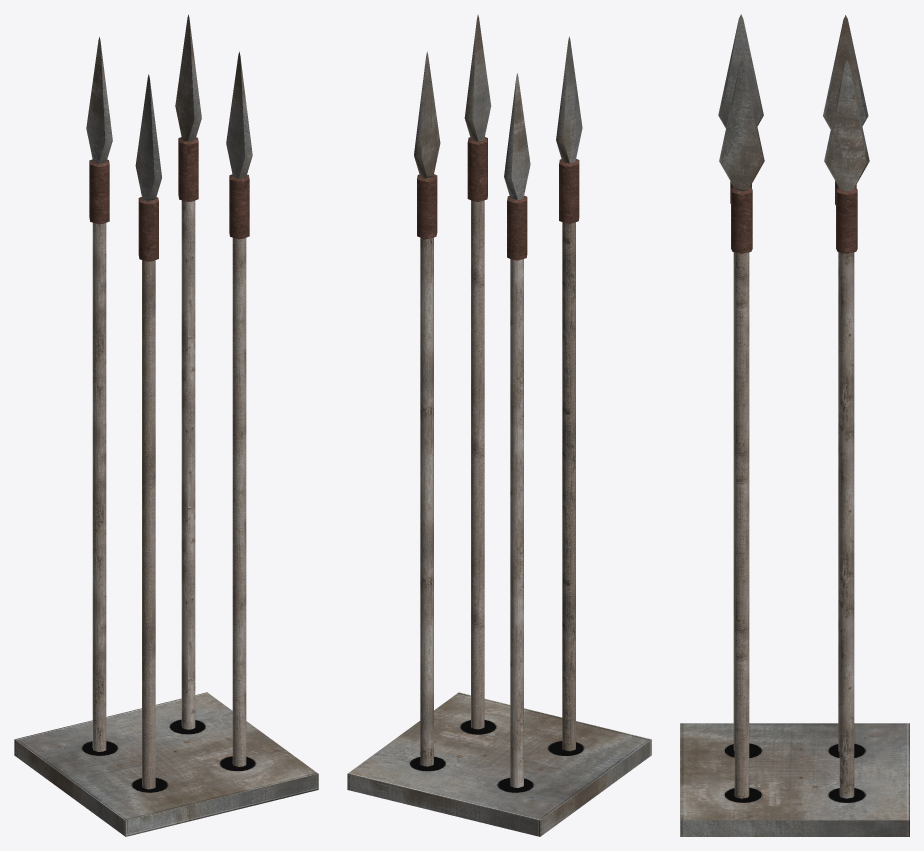
The model's file is Spikes.FBX.
3 views of the same model, side by side, from view 1: azimuth 30°, elevation 25°; view 2: azimuth 150°, elevation 25°; view 3: azimuth 270°, elevation 25° (orthographic). The views are drawn at different scales.
Parts seen in each view (by area): view 1: Box001, Cylinder002, Cylinder004, Cylinder003, Cylinder001; view 2: Box001, Cylinder004, Cylinder001, Cylinder003, Cylinder002; view 3: Box001, Cylinder004, Cylinder002, Cylinder001, Cylinder003.
Boxes of the visible parts, x1,y1,x2,y2 form: Box001: (14,692,318,836); Cylinder002: (226,51,252,766); Cylinder004: (175,14,201,729); Cylinder003: (86,37,112,751); Cylinder001: (135,74,161,789); Box001: (347,692,651,836); Cylinder004: (414,51,440,766); Cylinder001: (556,36,582,751); Cylinder003: (504,73,530,787); Cylinder002: (464,15,491,729); Box001: (680,723,909,836); Cylinder004: (824,60,869,798); Cylinder002: (719,60,764,798); Cylinder001: (718,14,763,750); Cylinder003: (823,15,868,751).
Bounding box in the file's own units: 19.69 × 71.09 × 19.69.
Materials: 1 (1 with a texture image).
